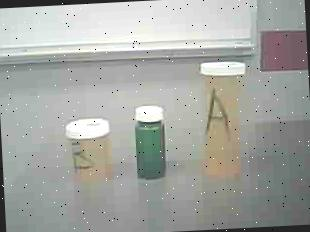Bottle A: (190, 52, 260, 186)
Bottle B: (59, 114, 122, 184)
Bottle C: (130, 105, 171, 182)
